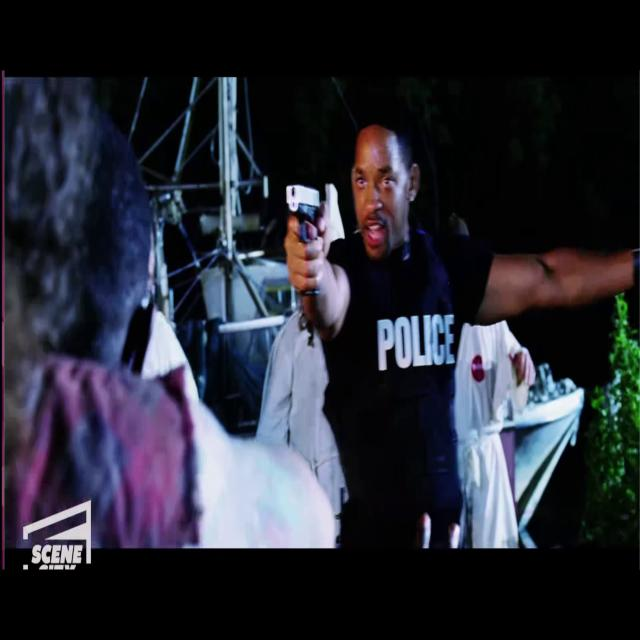weapons: (278, 168, 334, 311)
